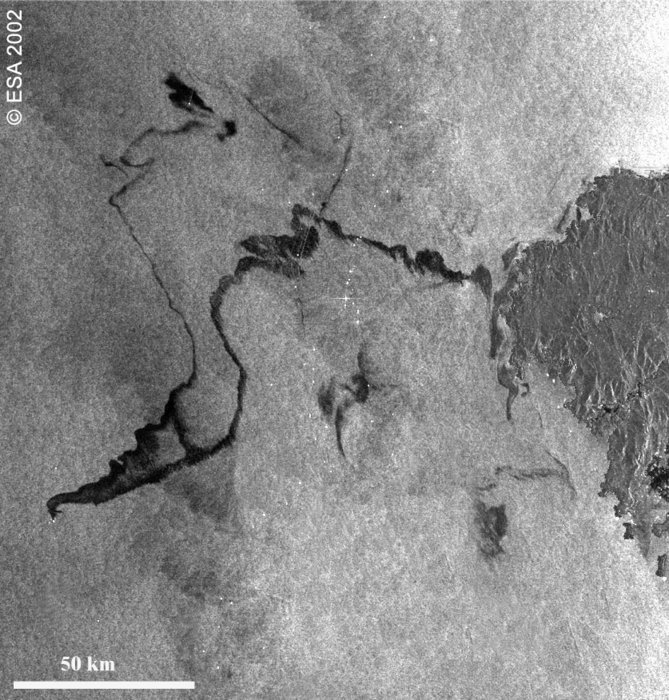anomaly: (102, 101, 669, 573)
